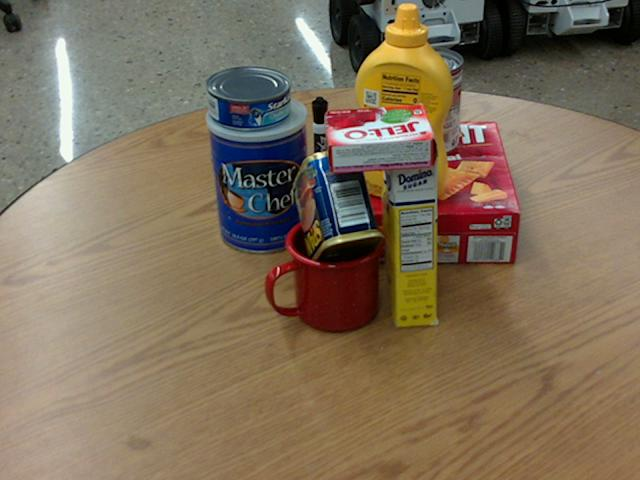cracker_box: (358, 120, 518, 263)
gelatin_box: (325, 103, 435, 172)
large_marker: (310, 98, 329, 197)
master_chef_can: (206, 91, 311, 252)
mug: (262, 214, 382, 333)
mustard_bottle: (353, 3, 453, 200)
potted_meat_can: (292, 149, 384, 270)
sugar_box: (379, 115, 435, 328)
tomato_soup_can: (399, 47, 461, 156)
tuna_fish_can: (205, 65, 290, 128)
